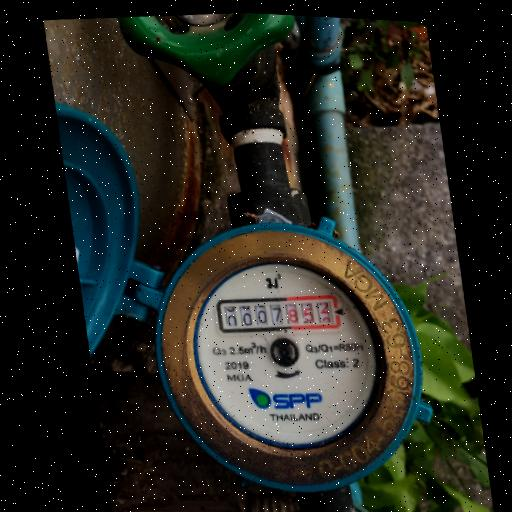0: (239, 306, 253, 327), (254, 304, 268, 325), (224, 306, 237, 326)
2: (315, 302, 330, 323)
5: (300, 302, 314, 324)
7: (270, 304, 284, 324)
8: (284, 303, 299, 325)
border_water_meter_number: (215, 288, 342, 340)
